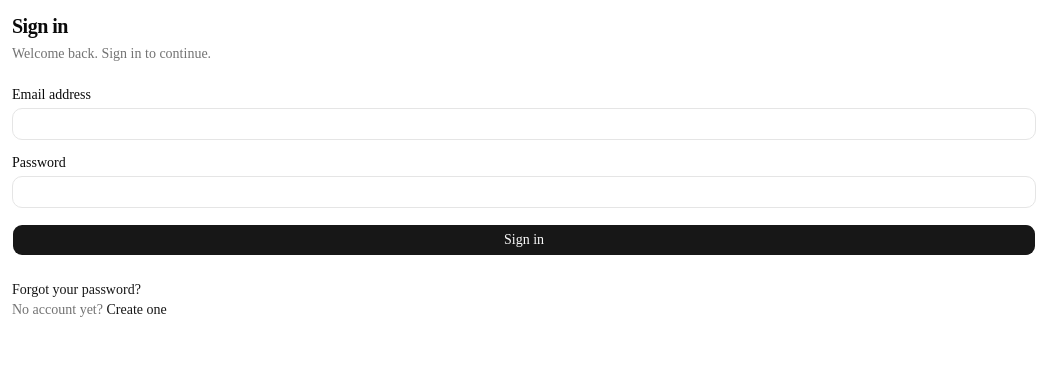
SignInForm › surfaces a wrong credential pair without saying which half was wrong
Type "ada@example.com" into the field labelled "Email address" at (524, 124), box [12,108,1036,140]
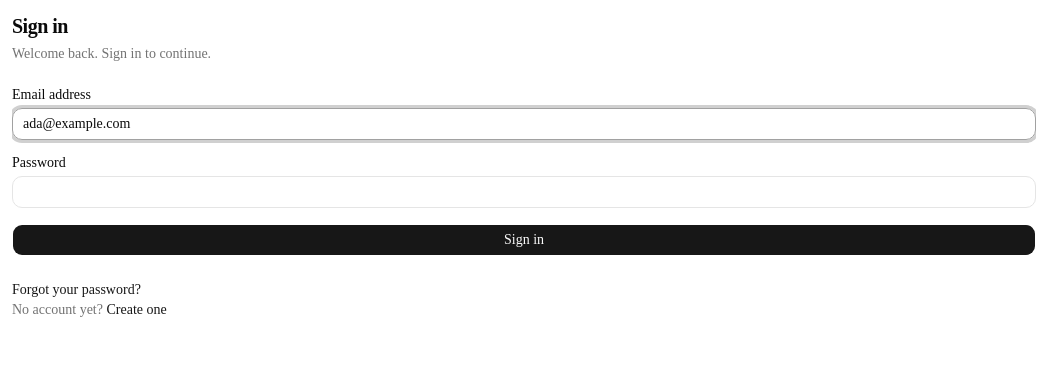
Type "wrong password" into the password field labelled "Password" at (524, 192), box [12,176,1036,208]
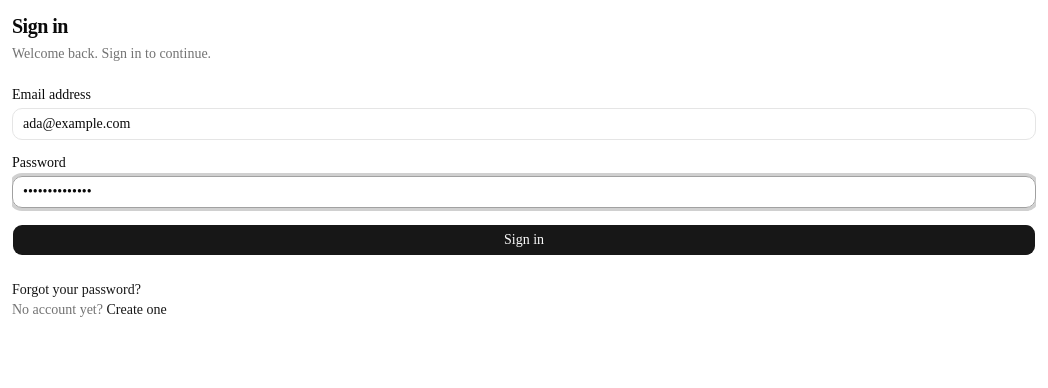
Click the button "Sign in" at (524, 240), box [12,224,1036,256]
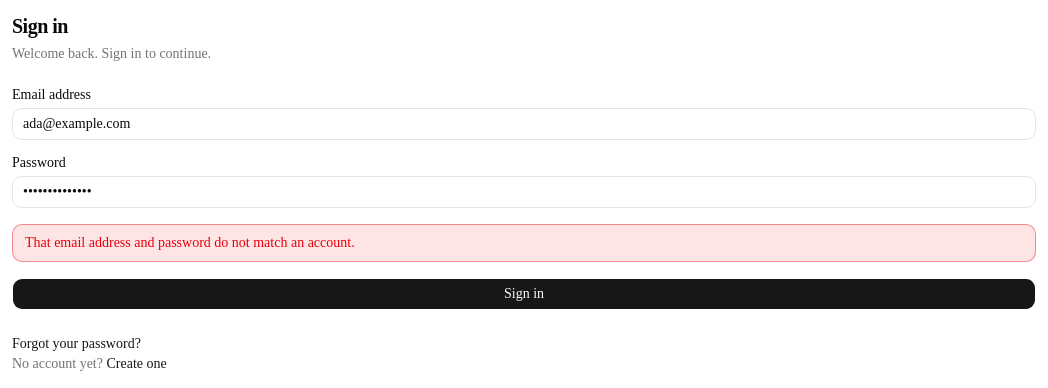
Check: the text "That email address and password do not match an account." is shown, box [12,224,1036,262]
